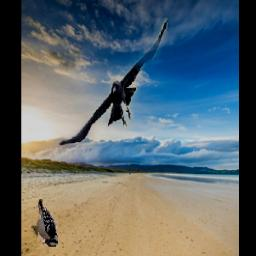Crow: (59, 19, 168, 146)
Woodpecker: (32, 199, 59, 247)
